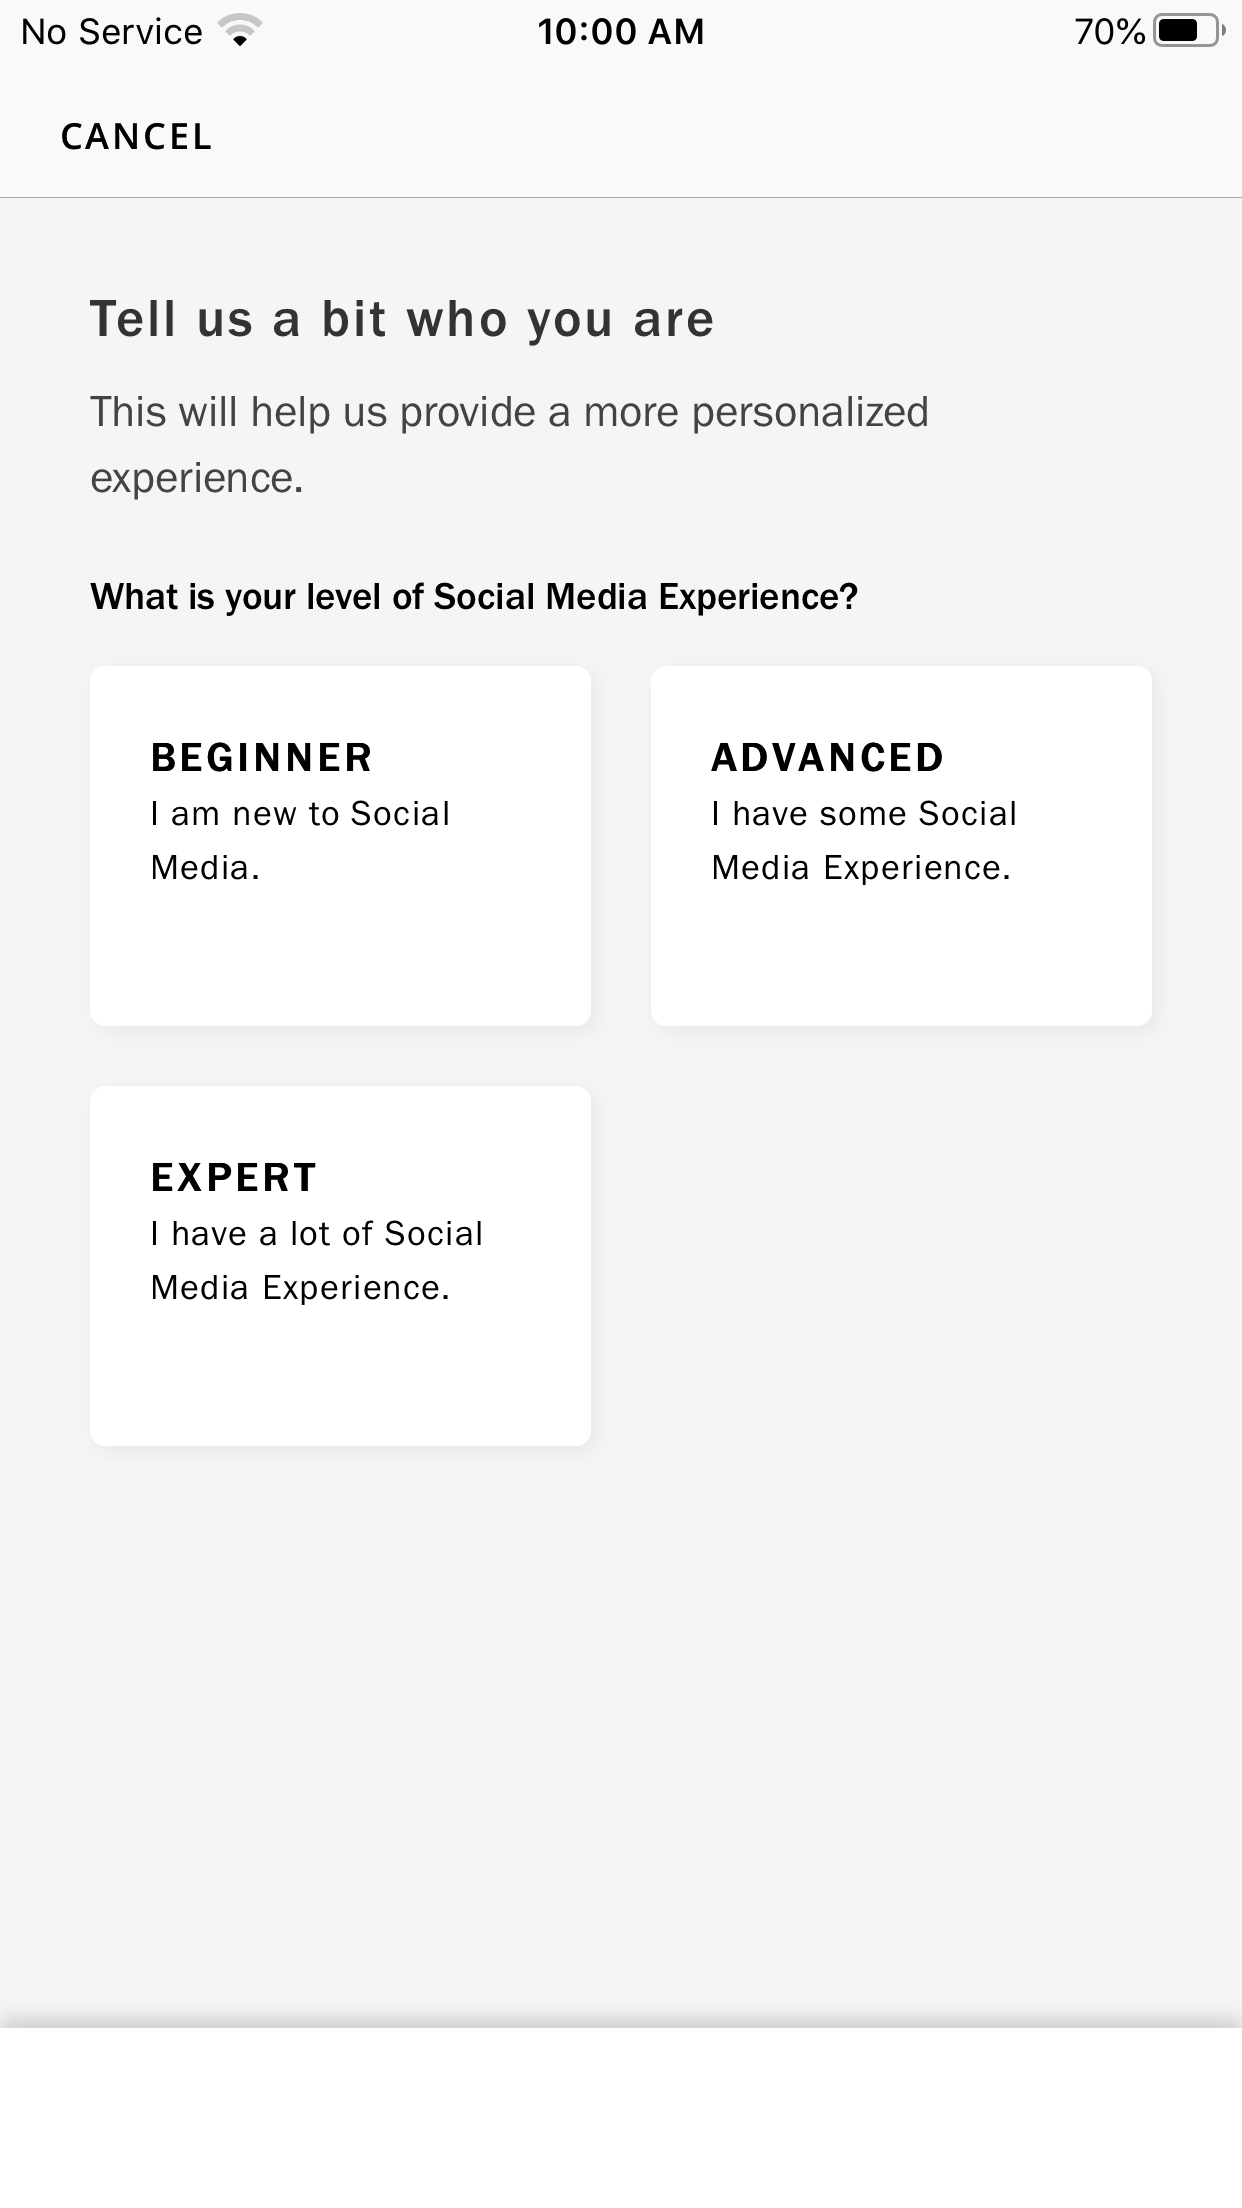Text: (89, 396, 927, 500), (89, 300, 713, 346), (153, 1219, 481, 1306), (89, 582, 858, 616), (714, 801, 1015, 886), (153, 801, 447, 880), (711, 742, 942, 772), (153, 742, 370, 772), (153, 1163, 315, 1190), (64, 123, 211, 149)
UpperTaskBar: (2, 2, 1242, 49)
